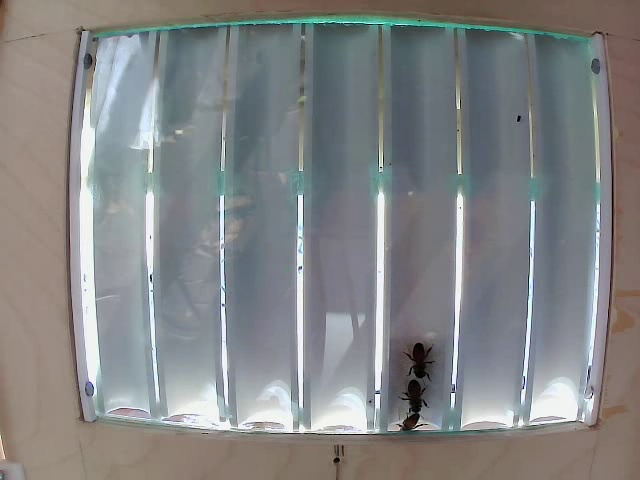bee: (395, 330, 439, 376), (387, 374, 429, 411)
